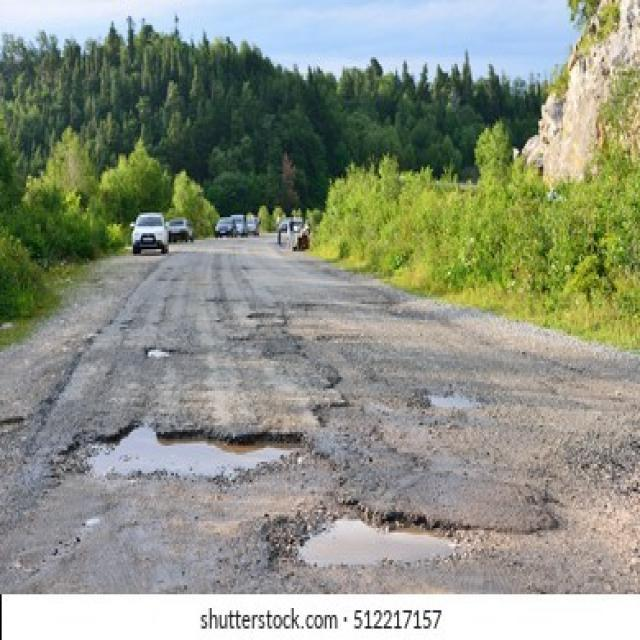Pothole: (64, 422, 307, 482), (280, 496, 464, 572), (144, 345, 172, 361)
